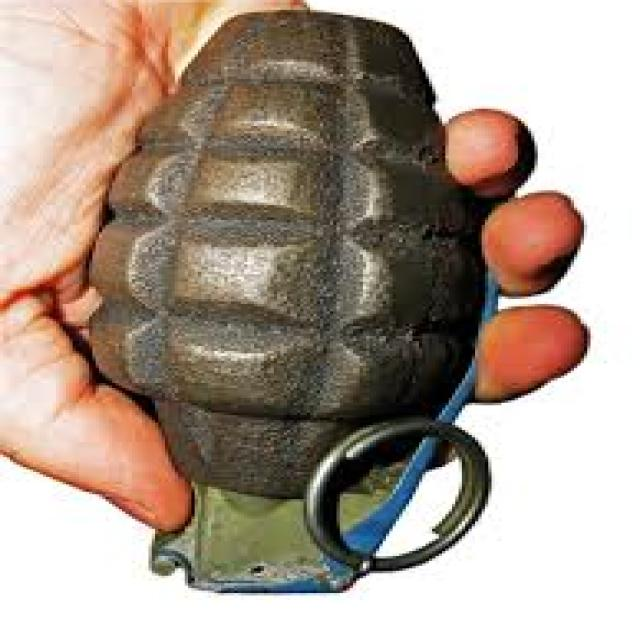grenade: (71, 3, 520, 617)
